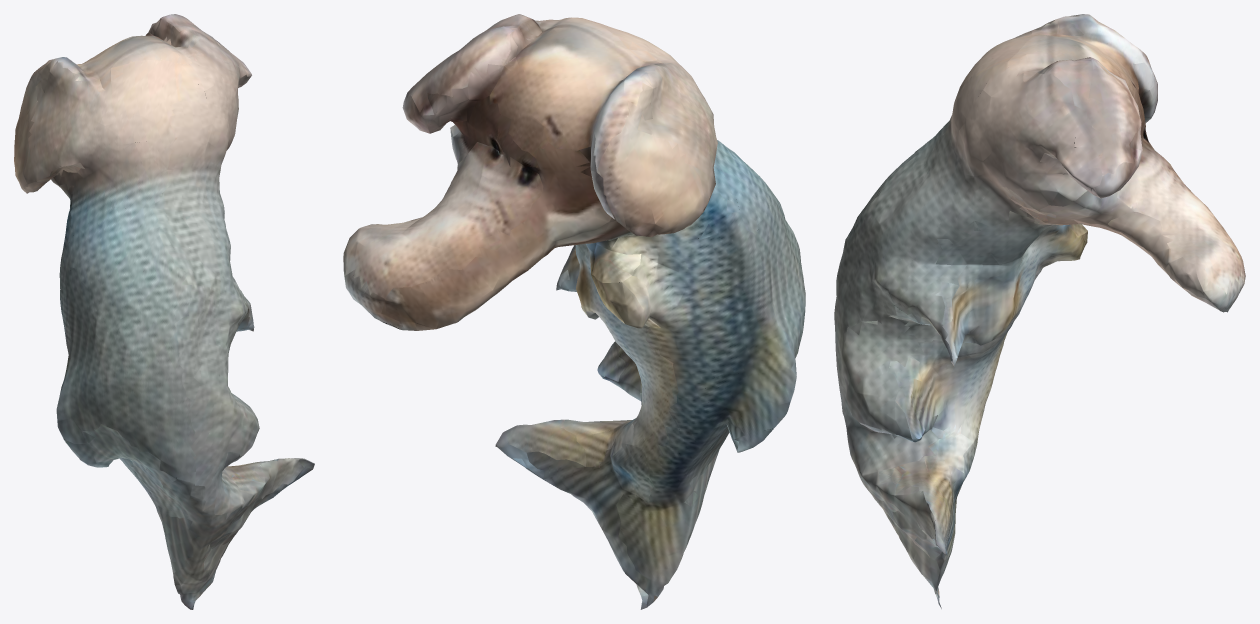
Rendered from Elifish.glb.
3 views of the same model, side by side, from view 1: azimuth 30°, elevation 25°; view 2: azimuth 150°, elevation 25°; view 3: azimuth 270°, elevation 25° (orthographic). The views are drawn at different scales.
Parts seen in each view (by area): view 1: world; view 2: world; view 3: world.
Boxes of the visible parts, x1,y1,x2,y2 form: world: (14,14,314,609); world: (343,14,805,609); world: (834,14,1245,608).
Size of the model in its own units: 0.4434 by 0.8548 by 0.5549.
1 material, 1 textured.
